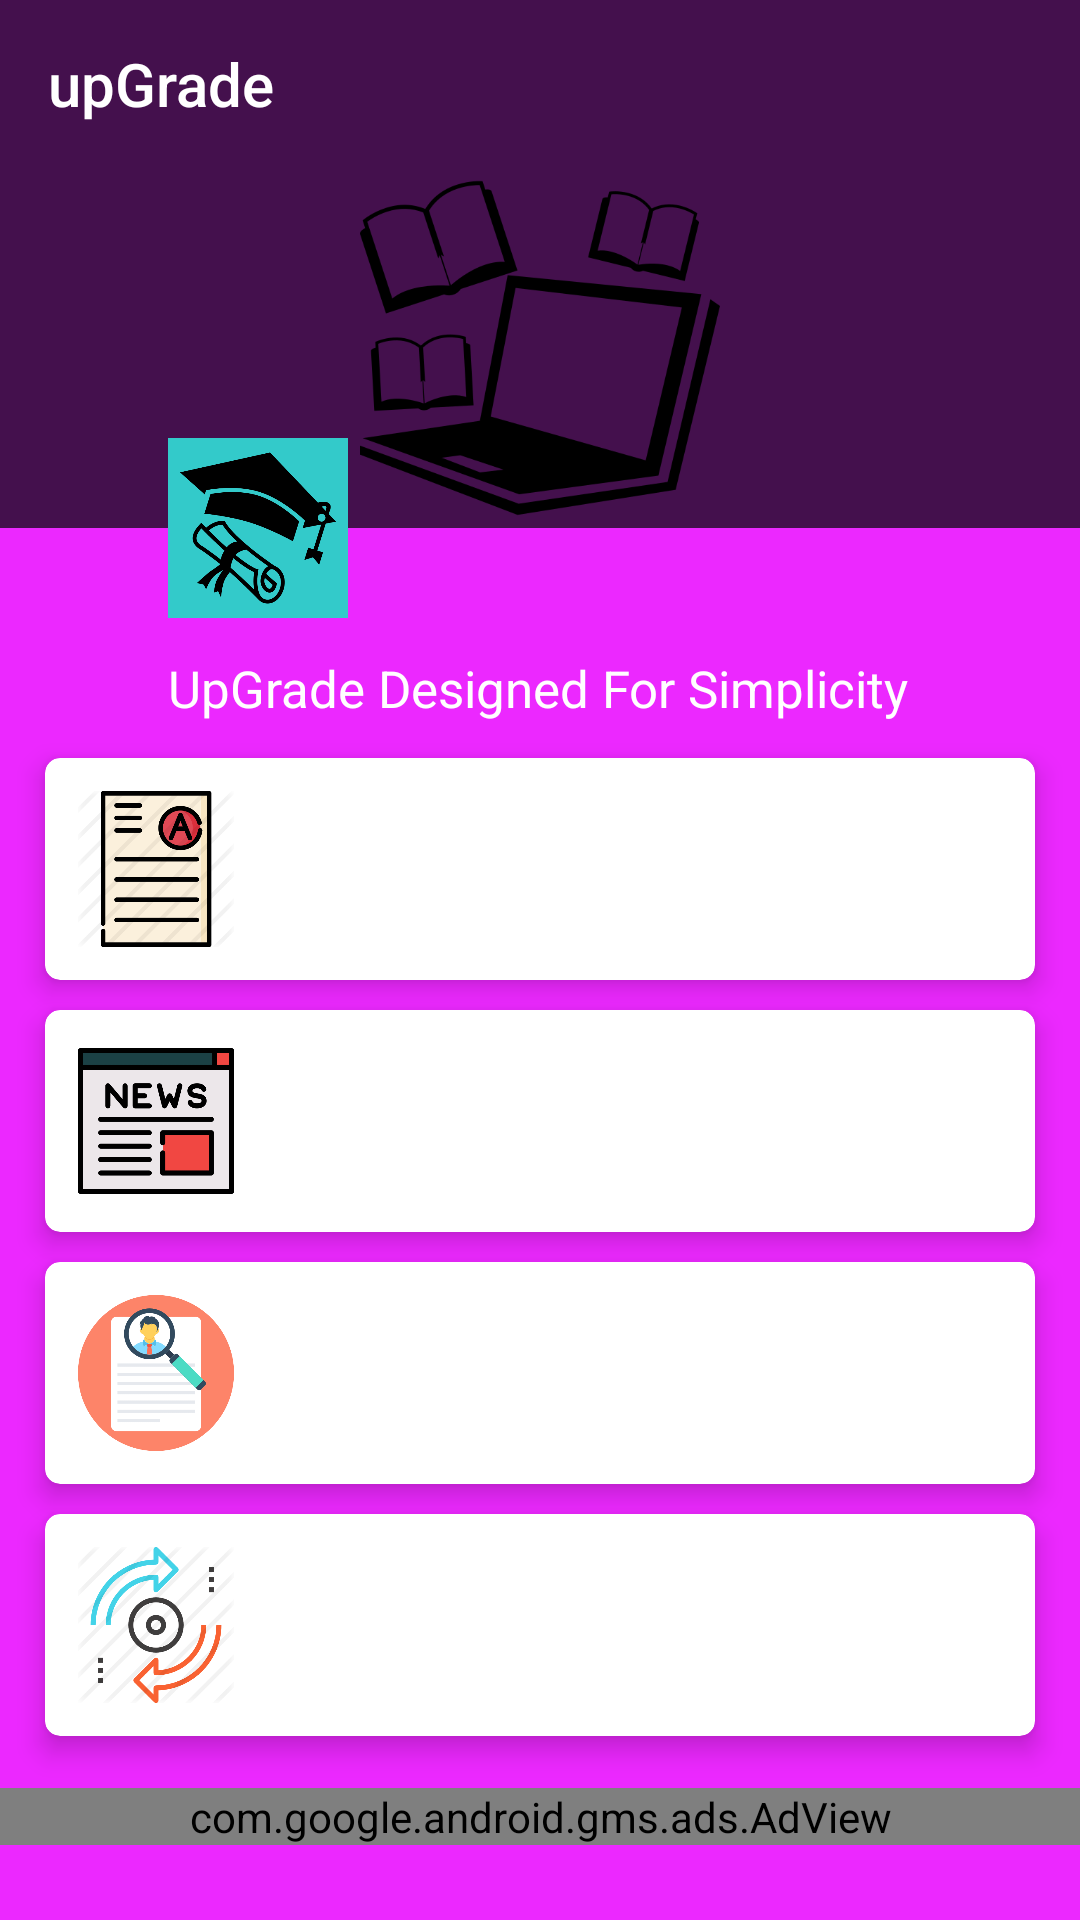

Screen size 1080×1920. Icon name, then its center in pixels as (x=x, y=y):
engg hat: (x=258, y=528)
gate exam: (x=156, y=869)
job card: (x=156, y=1373)
study lappy: (x=540, y=348)
